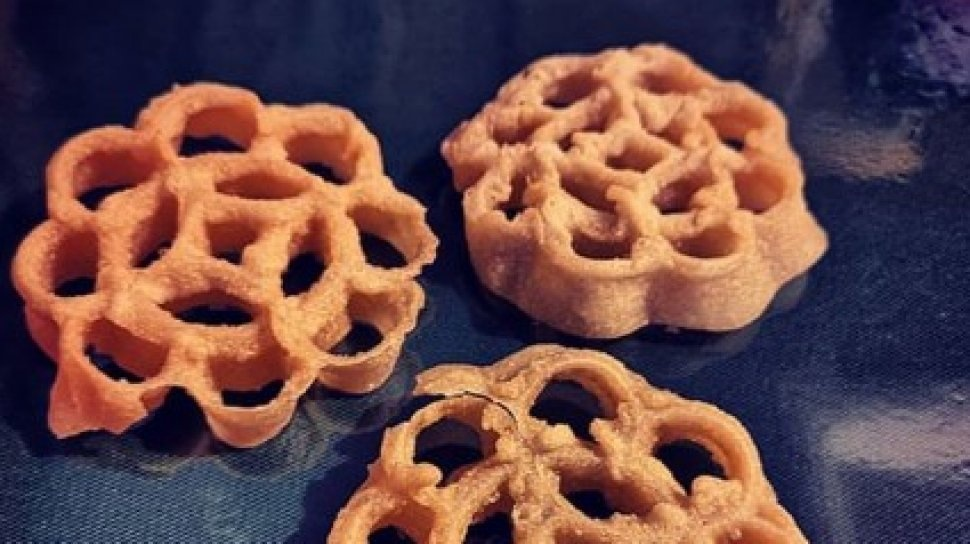kembang_goyang: (37, 83, 413, 460)
